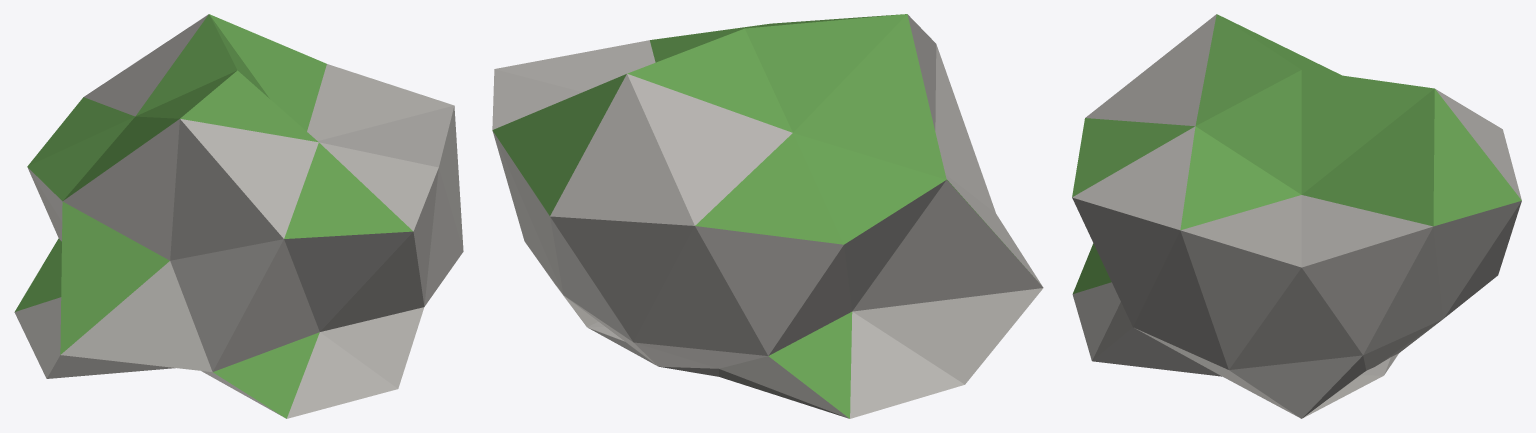
The model's file is rock_3.glb.
3 renders of one model, left to right at view 1: azimuth 30°, elevation 25°; view 2: azimuth 150°, elevation 25°; view 3: azimuth 270°, elevation 25°, orthographic. The views are drawn at different scales.
Visible parts, largest first — view 1: Rock_3; view 2: Rock_3; view 3: Rock_3.
Boxes of the visible parts, x1,y1,x2,y2 form: Rock_3: [14, 14, 463, 418]; Rock_3: [492, 14, 1043, 418]; Rock_3: [1072, 14, 1521, 418].
Bounding box in the file's own units: 1.74 × 1.04 × 1.53.
